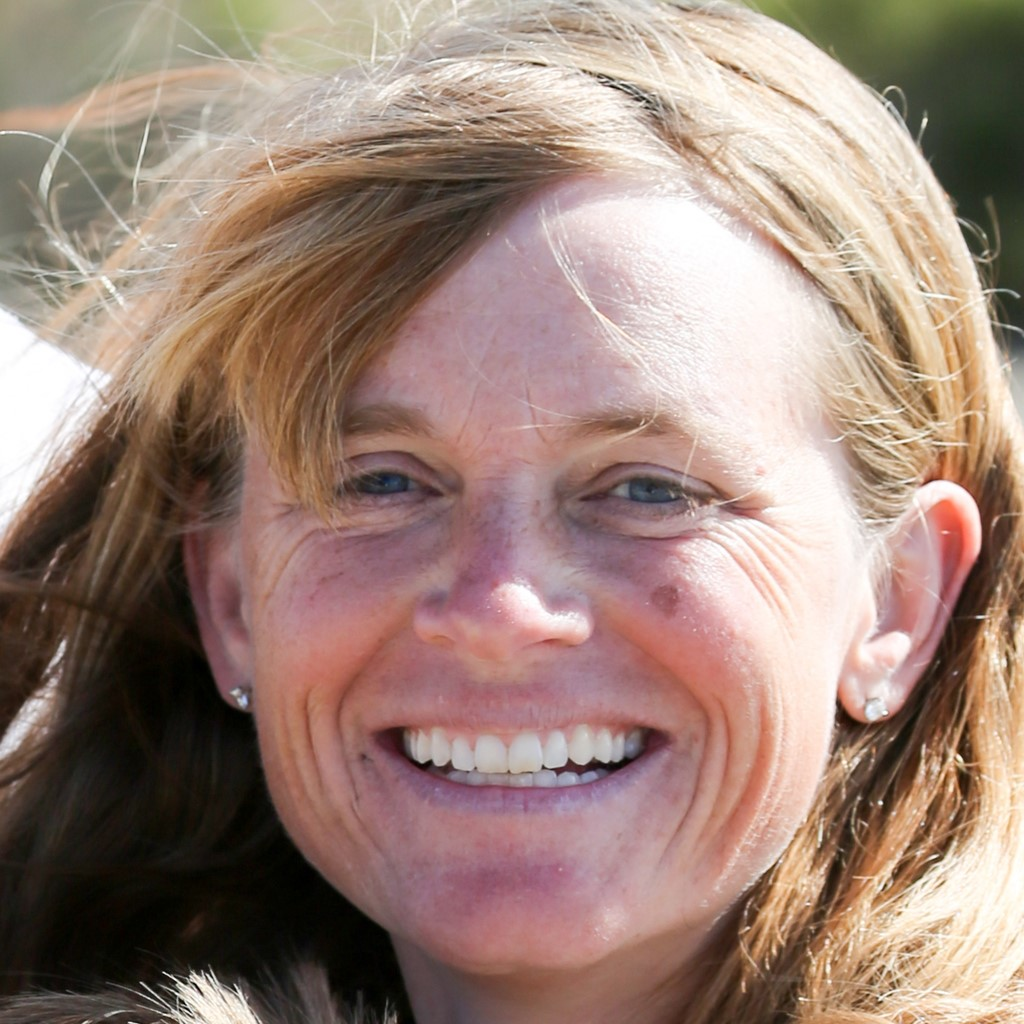sin_mascara: (227, 167, 845, 925)
